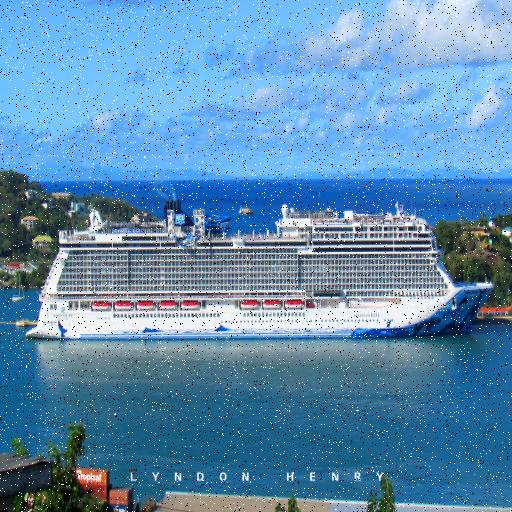cruises: (26, 180, 500, 342)
